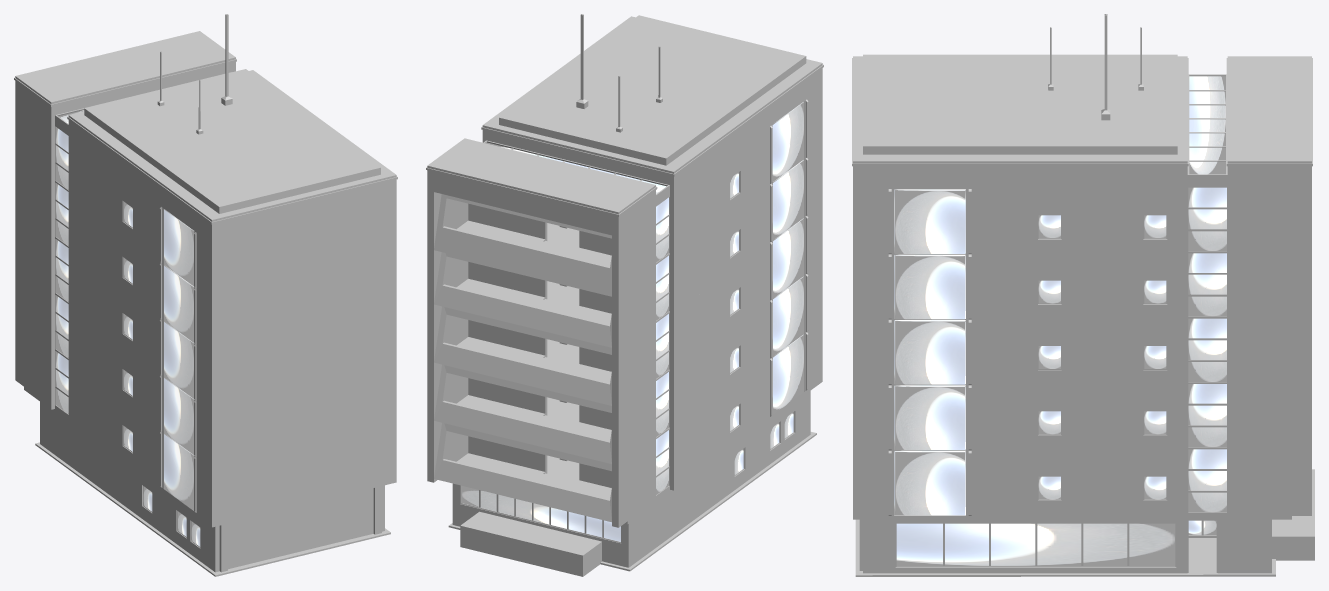
3 renders of one model, left to right at view 1: azimuth 30°, elevation 25°; view 2: azimuth 150°, elevation 25°; view 3: azimuth 270°, elevation 25°, orthographic. The views are drawn at different scales.
Parts seen in each view (by area): view 1: Residential Buildings 003; view 2: Residential Buildings 003; view 3: Residential Buildings 003.
Boxes of the visible parts, x1,y1,x2,y2 form: Residential Buildings 003: (14, 14, 397, 576); Residential Buildings 003: (426, 14, 823, 576); Residential Buildings 003: (852, 14, 1314, 576).
Bounding box in the file's own units: 12.59 × 29.19 × 23.1.
2 materials, 1 textured.
